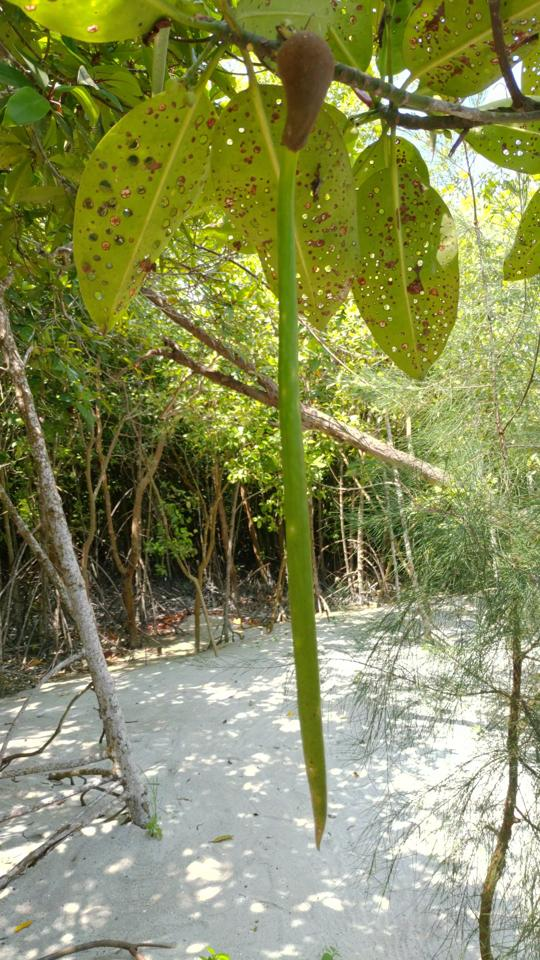mentah: (259, 19, 363, 863)
